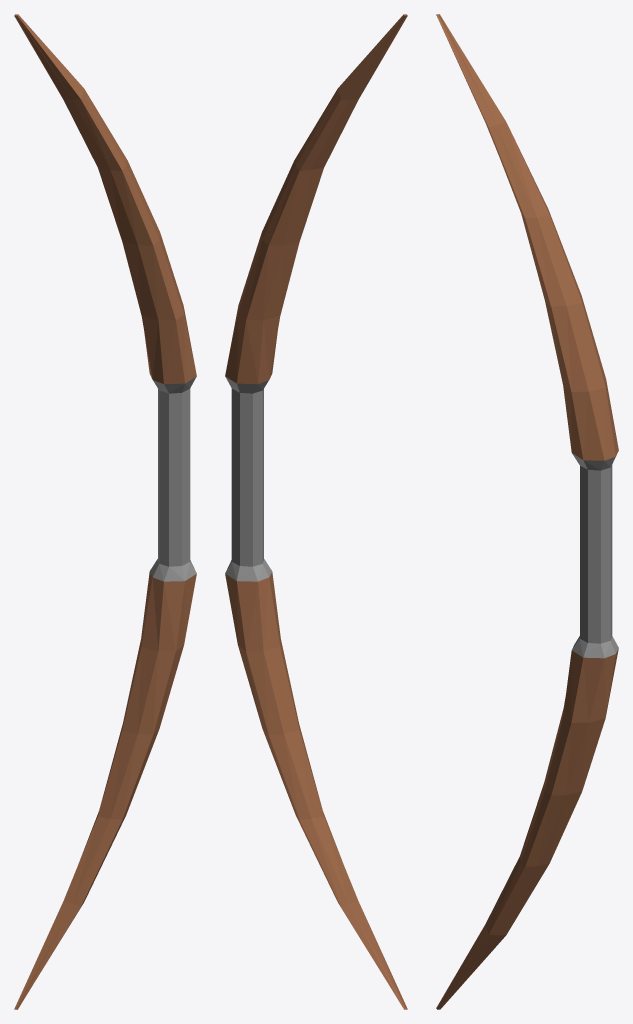
The model's file is Bow.ready.glb.
3 renders of one model, left to right at view 1: azimuth 30°, elevation 25°; view 2: azimuth 150°, elevation 25°; view 3: azimuth 330°, elevation 25°, orthographic.
Parts seen in each view (by area): view 1: Bow; view 2: Bow; view 3: Bow.
Part boxes in pixels (x1=…): Bow: x1=14, y1=14, x2=196, y2=1009; Bow: x1=225, y1=14, x2=407, y2=1009; Bow: x1=436, y1=14, x2=618, y2=1009.
Size of the model in its own units: 0.902 by 4.76 by 0.2301.
Materials: 1 (1 with a texture image).
